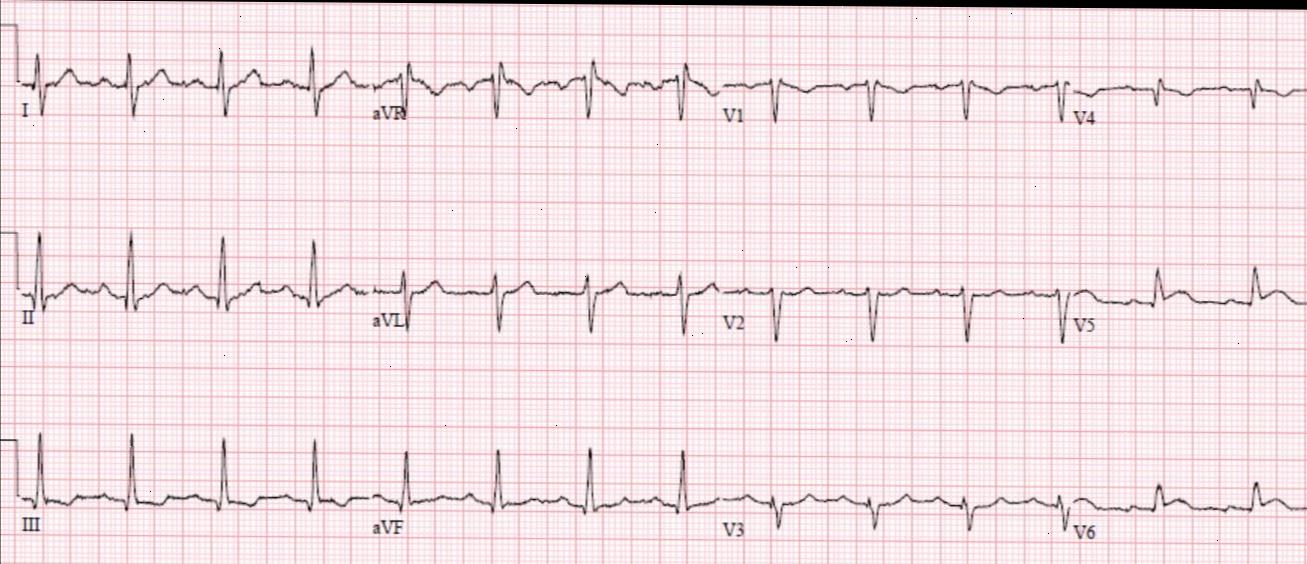Lead_I: (17, 43, 374, 125)
Lead_II: (19, 219, 370, 336)
Lead_III: (18, 417, 371, 544)
Lead_V1: (720, 51, 1069, 138)
Lead_V2: (717, 259, 1072, 352)
Lead_V3: (718, 454, 1074, 561)
Lead_V4: (1070, 62, 1307, 139)
Lead_V5: (1074, 245, 1307, 362)
Lead_V6: (1073, 465, 1307, 558)
Lead_aVF: (372, 429, 722, 546)
Lead_aVL: (369, 239, 719, 343)
Lead_aVR: (371, 40, 722, 142)
